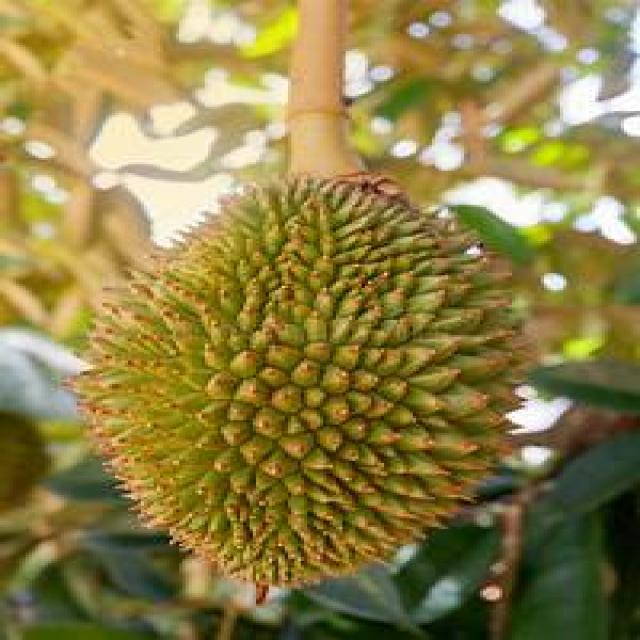mature: (88, 175, 518, 583)
